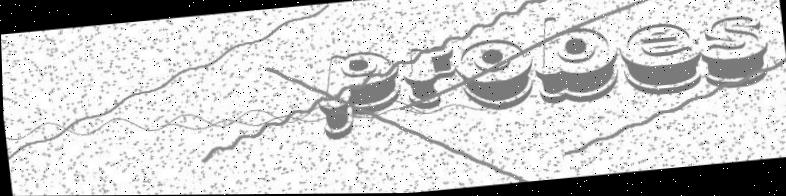b: (527, 9, 623, 111)
e: (615, 14, 704, 101)
o: (451, 32, 540, 116)
p: (312, 45, 408, 146)
r: (399, 42, 461, 114)
s: (698, 11, 772, 89)
